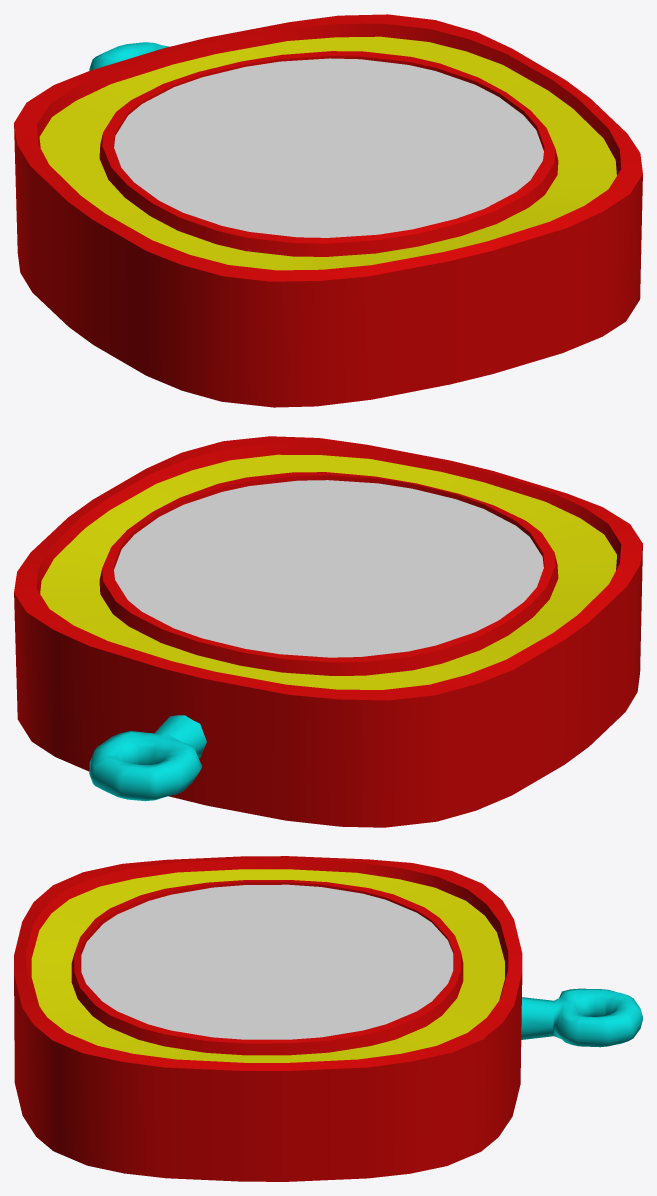
The model's file is LP_Compos.fbx.
3 renders of one model, top to bottom at view 1: azimuth 30°, elevation 25°; view 2: azimuth 150°, elevation 25°; view 3: azimuth 270°, elevation 25°, orthographic. The views are drawn at different scales.
Visible parts, largest first — view 1: MDL_Base_LP, MDL_LP_Glass; view 2: MDL_Base_LP, MDL_LP_Glass; view 3: MDL_Base_LP, MDL_LP_Glass.
Part boxes in pixels (x1,y1,x2,y2): MDL_Base_LP: [14, 14, 642, 407]; MDL_LP_Glass: [114, 58, 543, 237]; MDL_Base_LP: [14, 436, 642, 827]; MDL_LP_Glass: [114, 480, 543, 657]; MDL_Base_LP: [14, 856, 642, 1181]; MDL_LP_Glass: [81, 884, 453, 1039].
Bounding box in the file's own units: 14.46 × 3.62 × 17.88.
